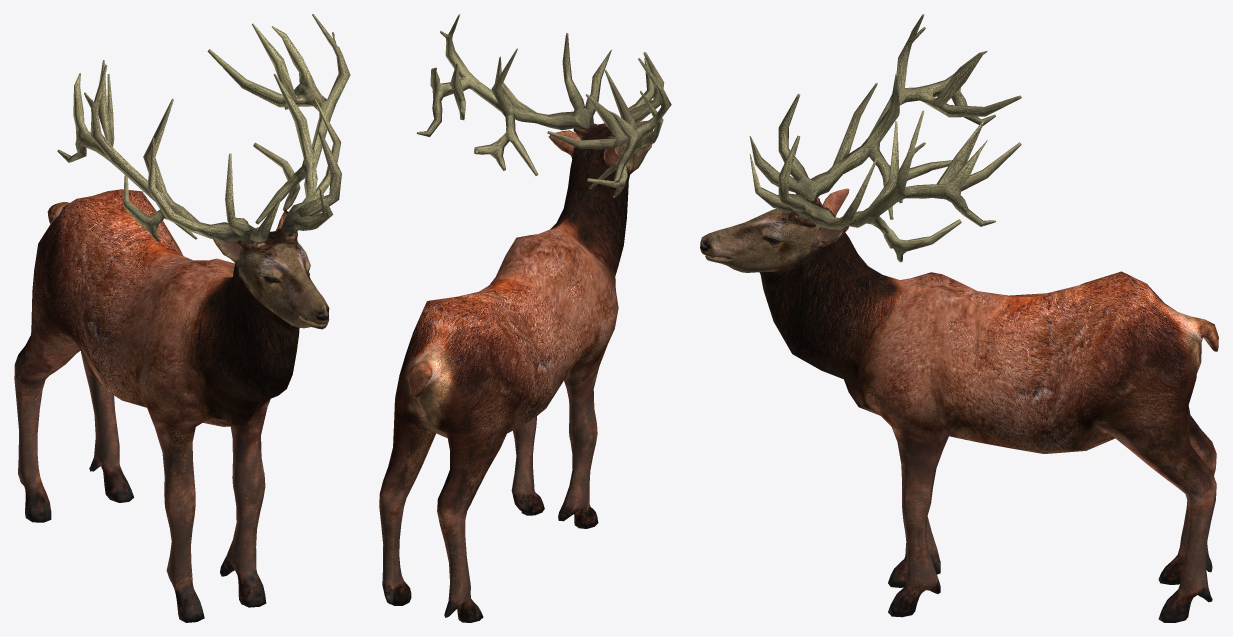
The model's file is woodland-stag-source.glb.
3 views of the same model, side by side, from view 1: azimuth 30°, elevation 25°; view 2: azimuth 150°, elevation 25°; view 3: azimuth 270°, elevation 25° (orthographic). The views are drawn at different scales.
Parts seen in each view (by area): view 1: woodland-stag-source runtime mesh; view 2: woodland-stag-source runtime mesh; view 3: woodland-stag-source runtime mesh.
Boxes of the visible parts, x1,y1,x2,y2 form: woodland-stag-source runtime mesh: (14, 14, 350, 622); woodland-stag-source runtime mesh: (379, 14, 671, 622); woodland-stag-source runtime mesh: (700, 14, 1218, 622).
Size of the model in its own units: 0.9247 by 1.95 by 1.71.
Materials: 4 (3 with a texture image).
